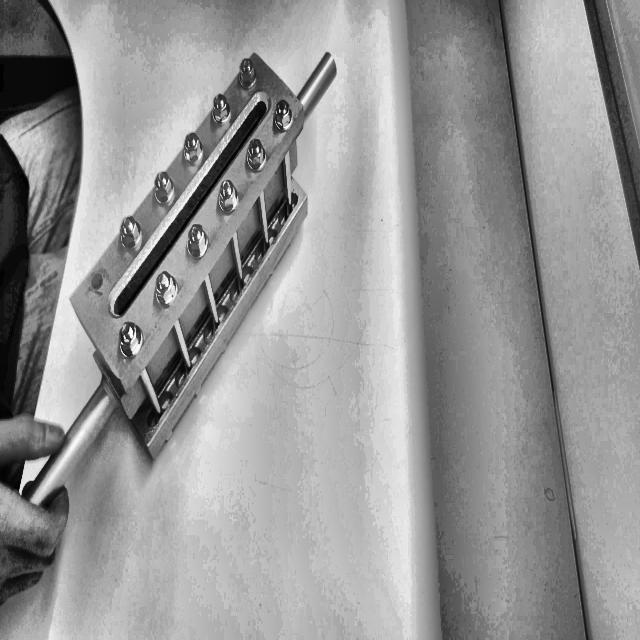ShuiWeiQi_11: (76, 19, 345, 431)
